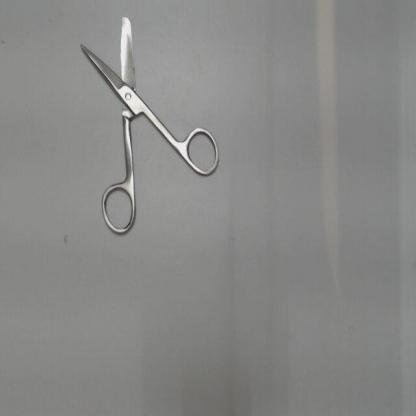Dressing Scissors: (72, 7, 226, 244)
